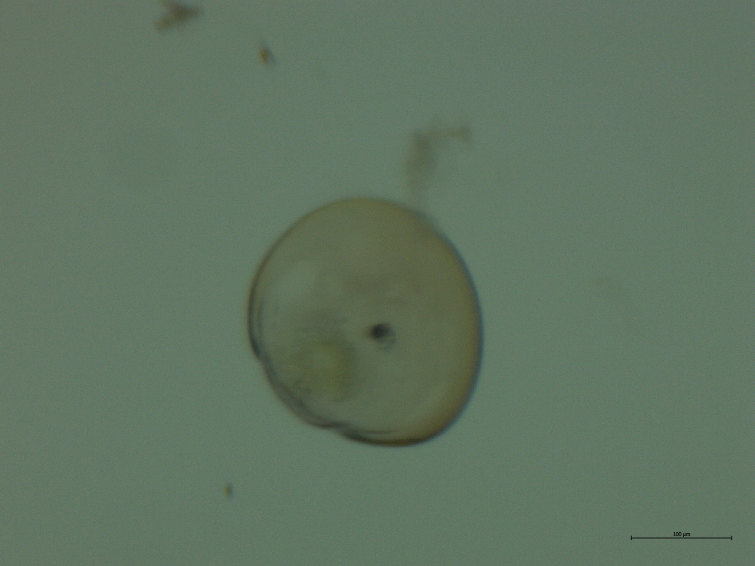oyster: (235, 184, 496, 457)
